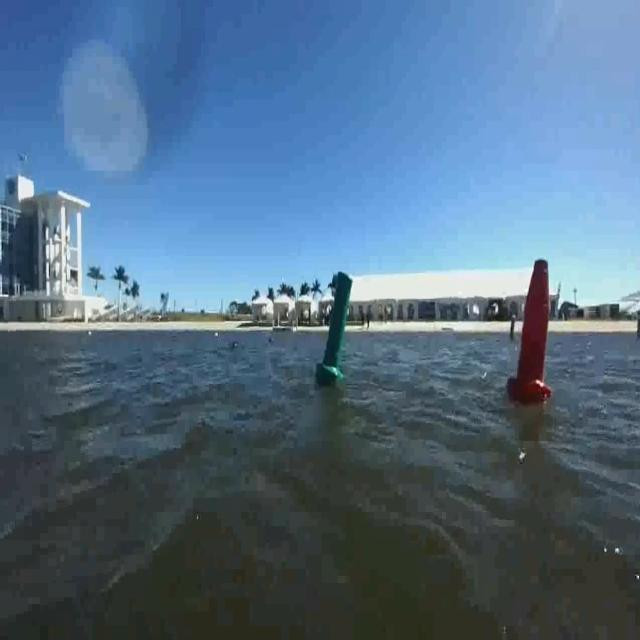green-column-buoy: (316, 270, 353, 381)
red-column-buoy: (507, 258, 553, 407)
